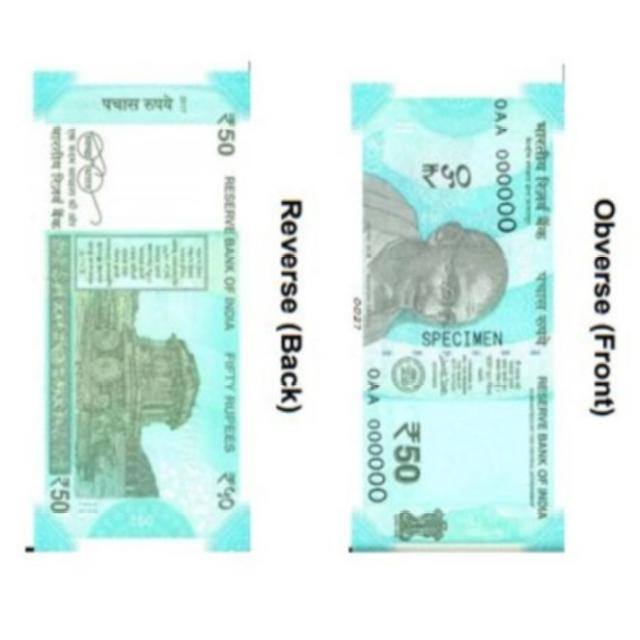50IndianRupees: (351, 64, 563, 562)
